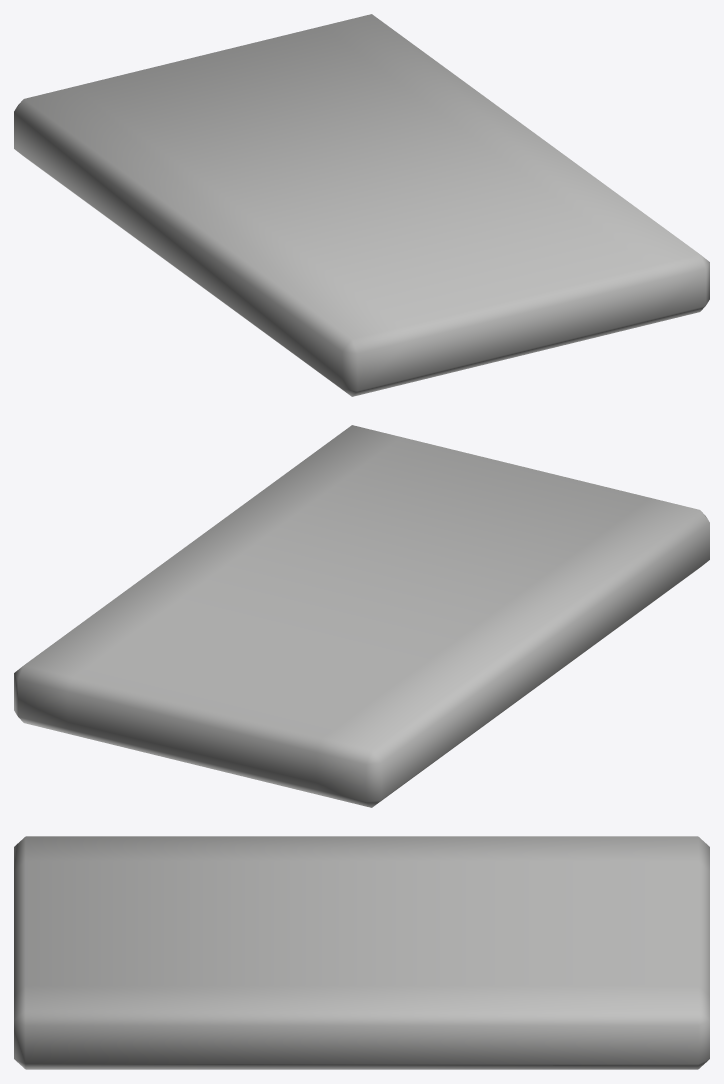
The model's file is Matraz.fbx.
3 views of the same model, one above another, from view 1: azimuth 30°, elevation 25°; view 2: azimuth 150°, elevation 25°; view 3: azimuth 270°, elevation 25° (orthographic). The views are drawn at different scales.
Visible parts, largest first — view 1: Plane; view 2: Plane; view 3: Plane.
Boxes of the visible parts, x1,y1,x2,y2 form: Plane: (14,14,709,396); Plane: (14,425,709,807); Plane: (14,836,709,1069).
Size of the model in its own units: 2.4 by 0.3598 by 3.84.
